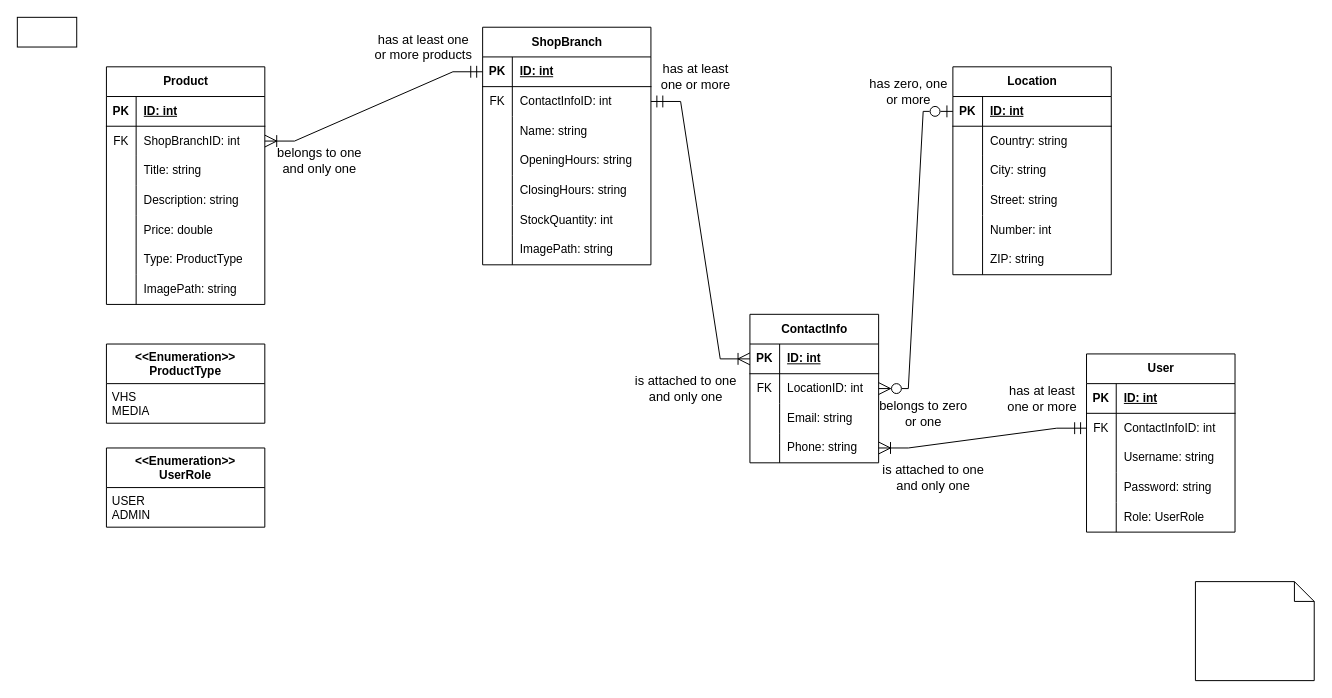
Some shapes in this 1332 by 698 pixel diagram are drawn without their labels. Each missing label, with the centre of its shape:
"2024 Daniyar Amirov BCSH2 2024/2025 Semestr Work ERD" belongs at (1254,631).
"draw.io" belongs at (46,31).
